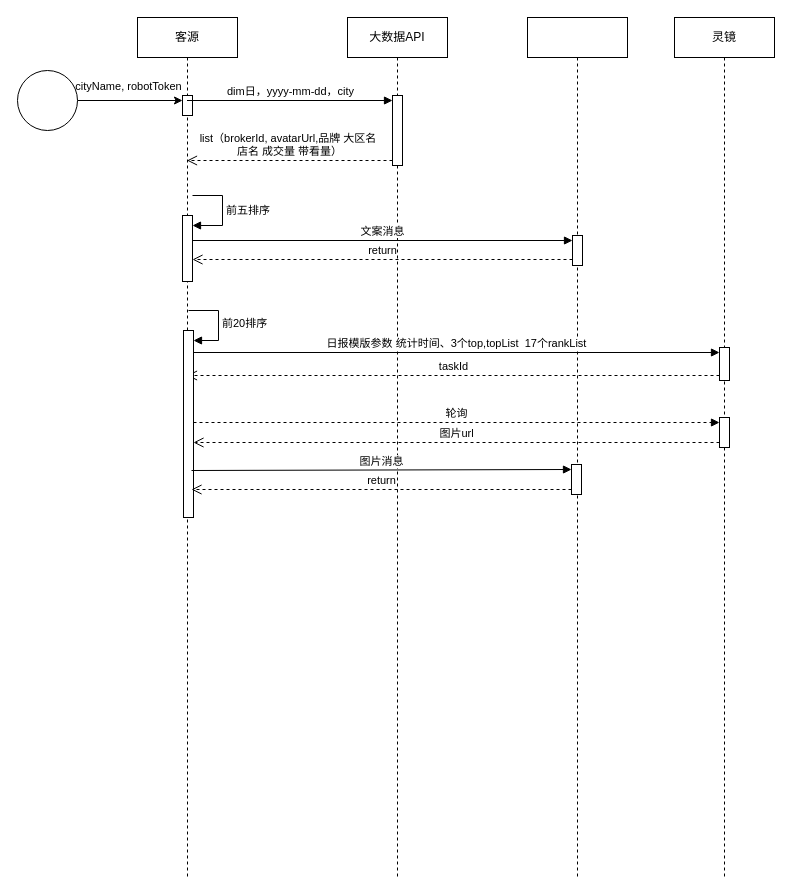
Image size: 792x895. Some labels were removed from this diagram. The box of each missing label's shape, as (x1, y1, x2, y2) in pixels:
企微机器人: (526, 16, 628, 878)
每日九点: (16, 70, 78, 130)
